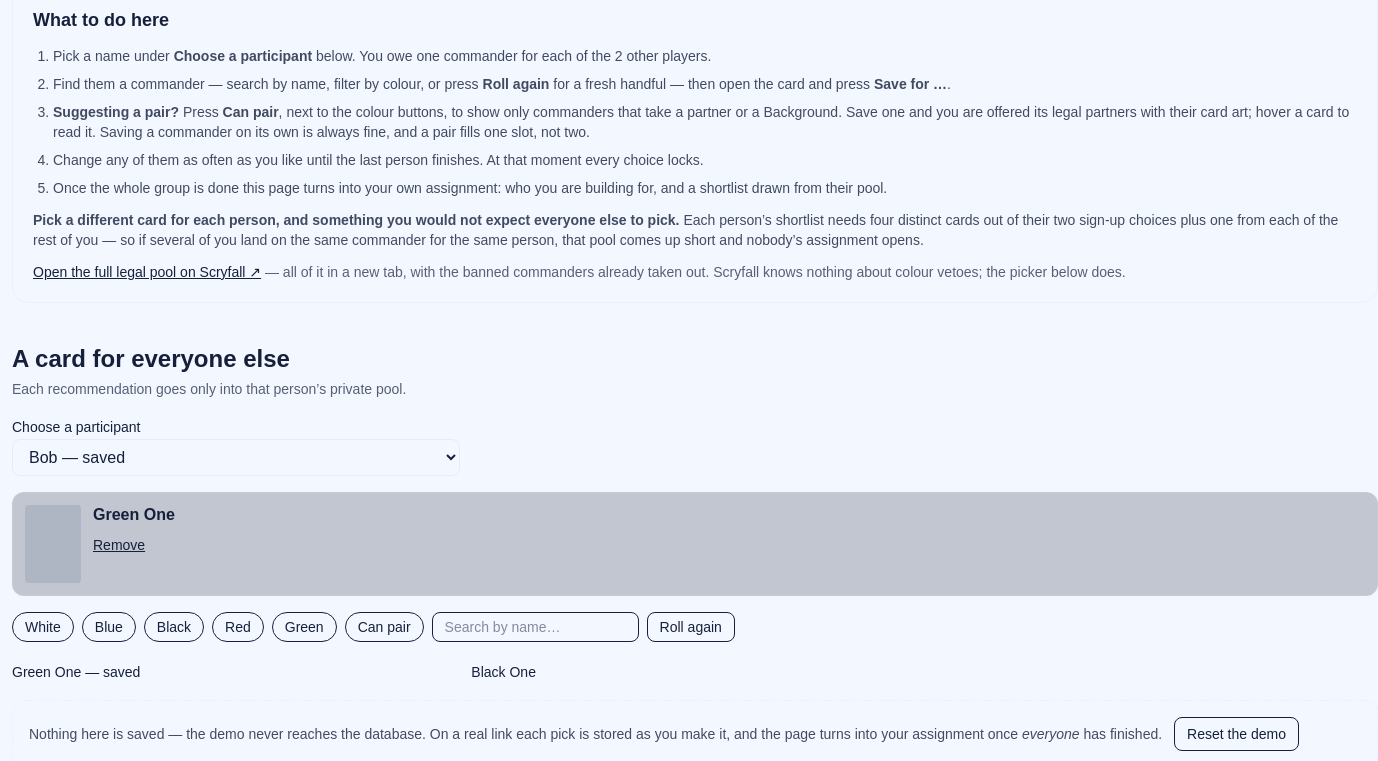
it: DemoCardWorkshop › can be reset to where it started
(page scrolled)
Click the button "Remove". click: (119, 545)
box: [93, 535, 145, 555]
(page scrolled)
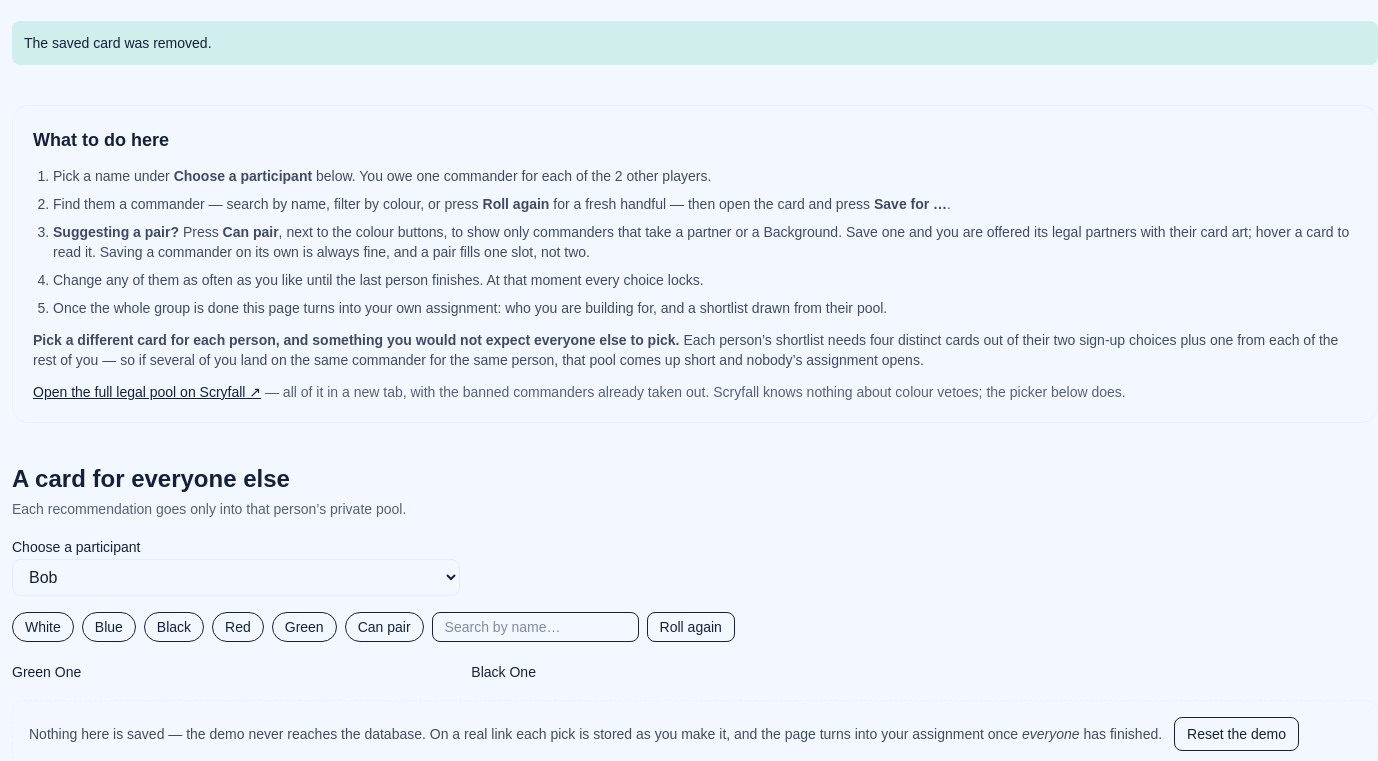
Click the button "Reset the demo". click: (1236, 734)
box: [1174, 717, 1299, 751]
(page scrolled)
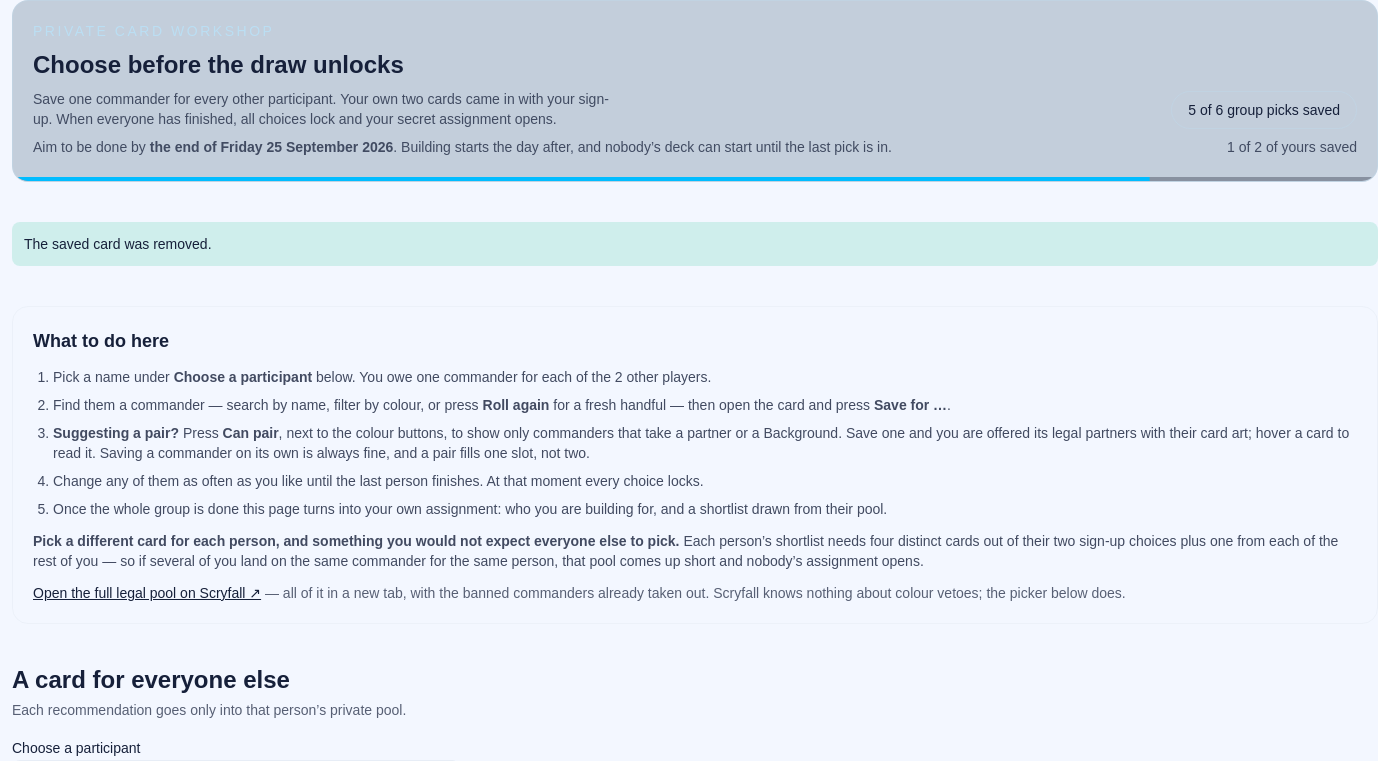
expect the text "5 of 6 group picks saved" is shown: met, box [1171, 91, 1357, 129]
